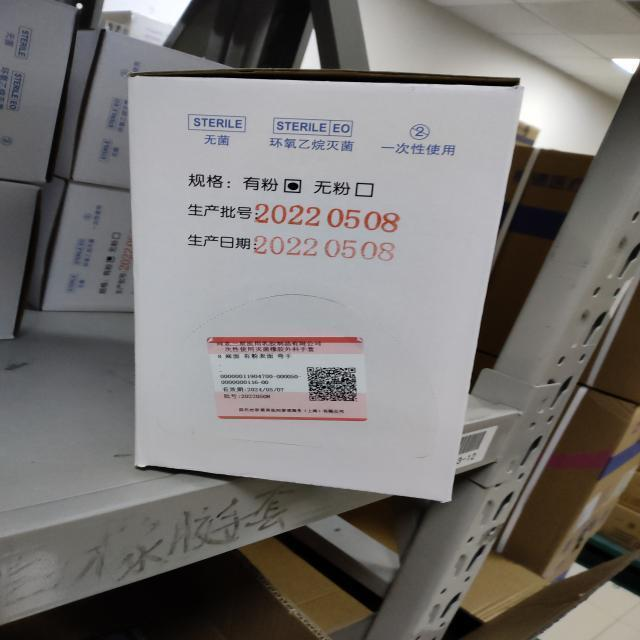box: (129, 69, 524, 507), (52, 25, 238, 191), (507, 389, 640, 586), (29, 173, 136, 314), (0, 0, 75, 186), (0, 180, 40, 342)
